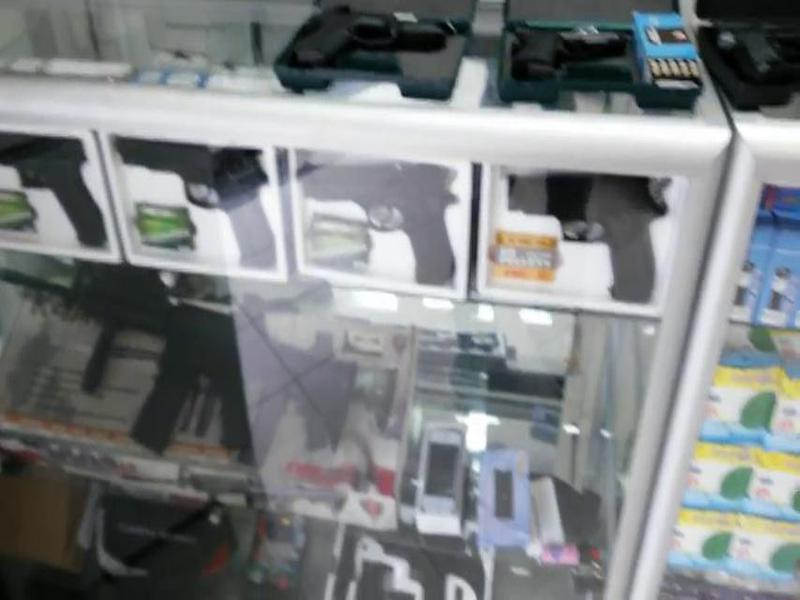Pistola: (279, 2, 467, 92), (491, 14, 664, 104)
